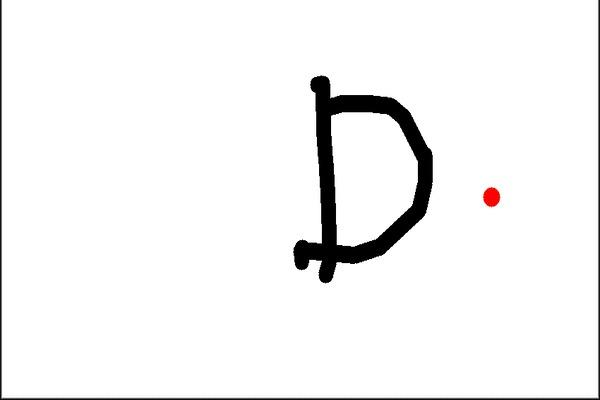D: (288, 71, 436, 287)
